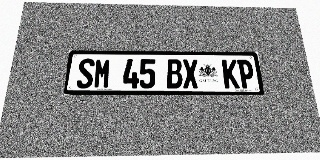4: (123, 59, 139, 88)
5: (139, 59, 155, 88)
B: (166, 59, 183, 88)
K: (222, 60, 240, 88)
M: (93, 59, 111, 88)
P: (237, 60, 255, 88)
S: (76, 58, 95, 88)
X: (182, 59, 199, 88)
